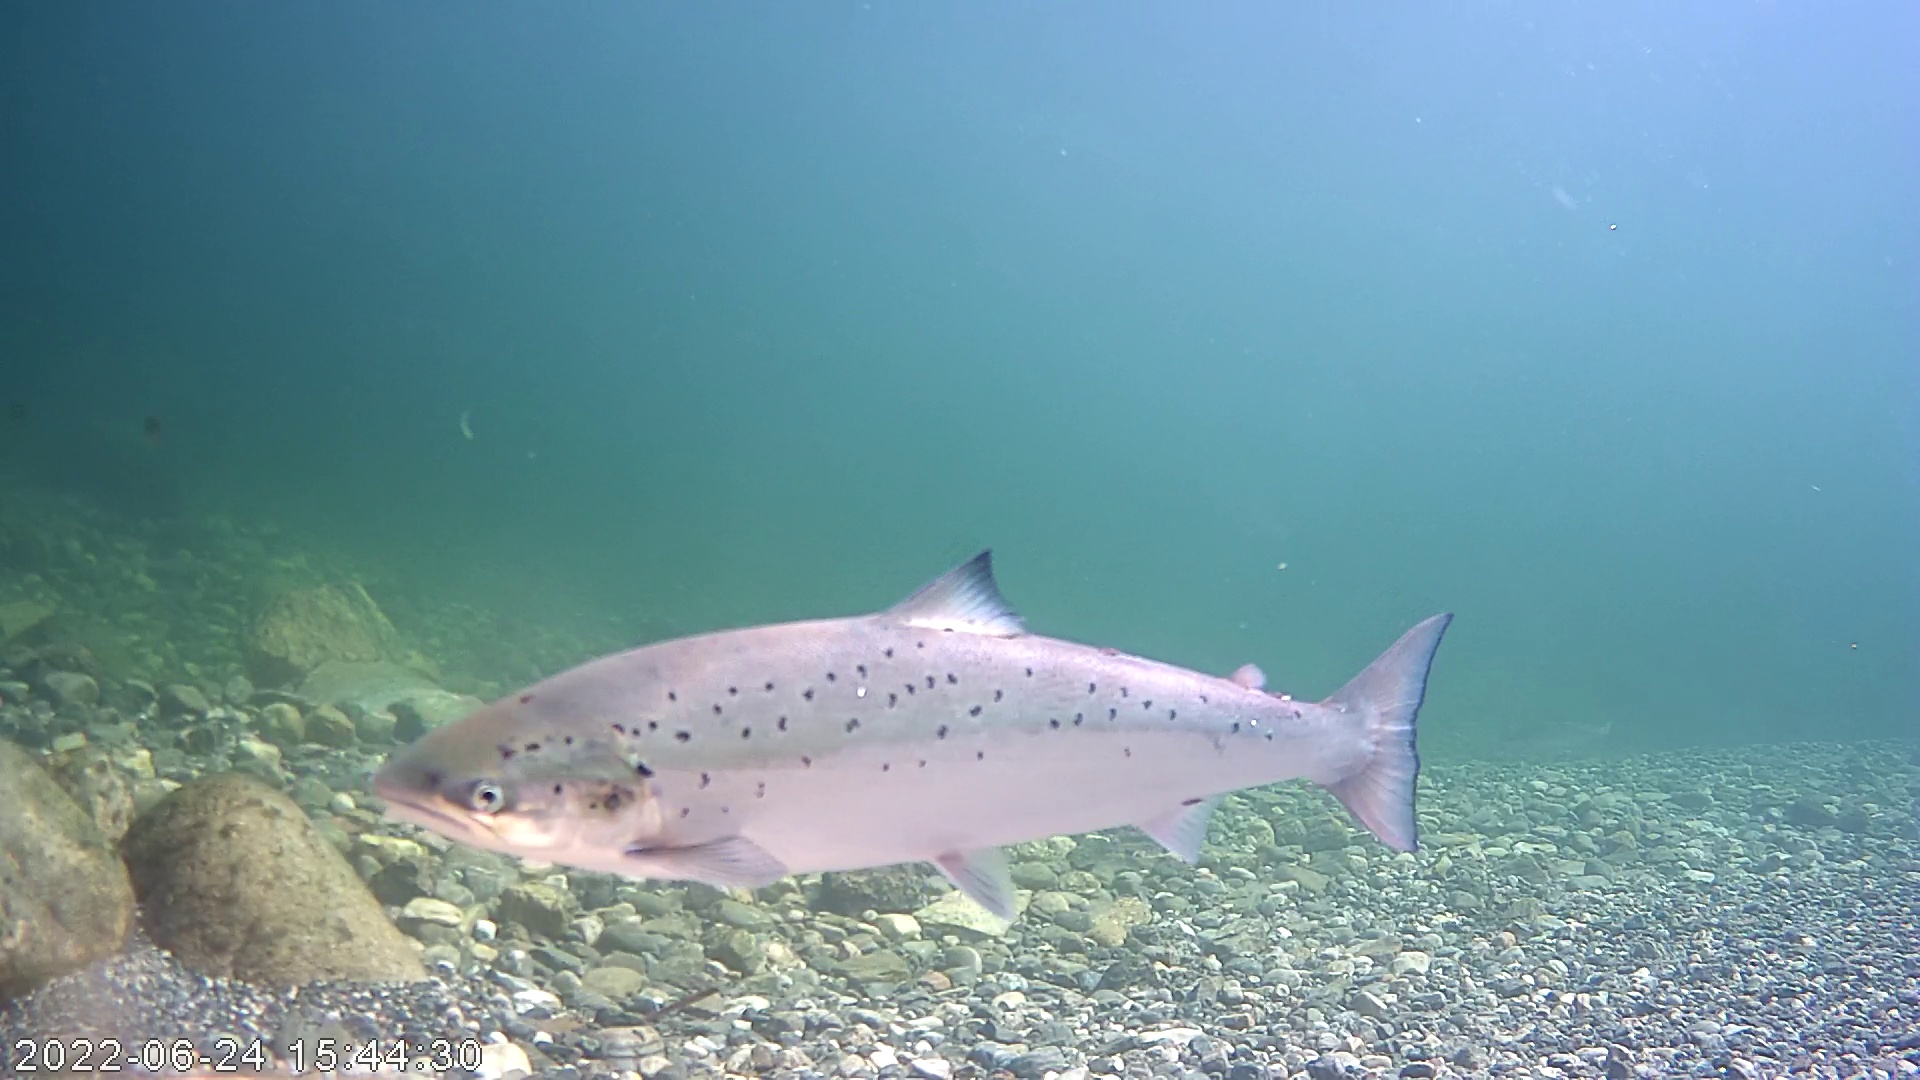salmon: (371, 545, 1458, 918)
